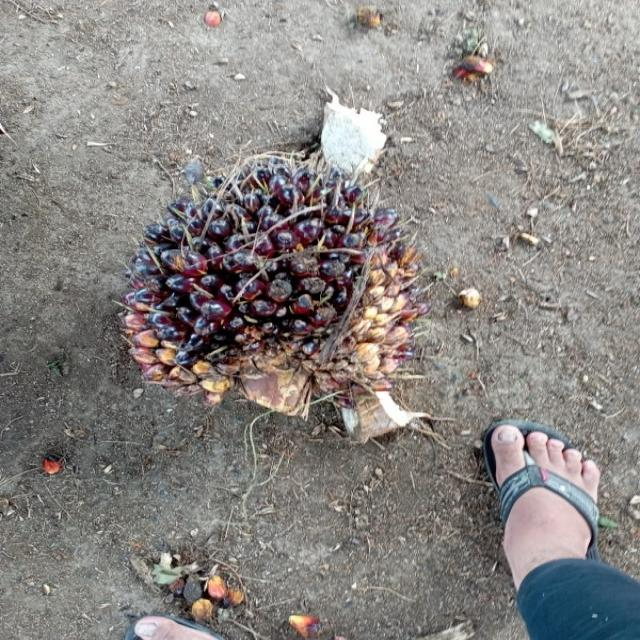fraksi 1: (87, 101, 480, 469)
